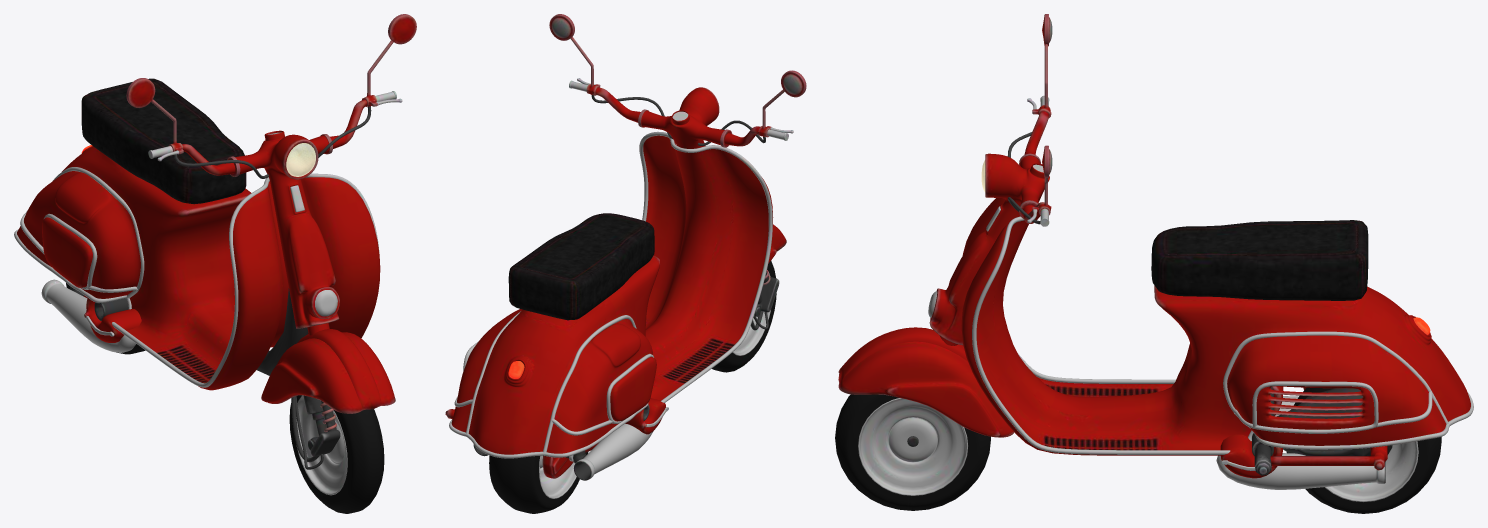
File: scooter.glb
3 renders of one model, left to right at view 1: azimuth 30°, elevation 25°; view 2: azimuth 150°, elevation 25°; view 3: azimuth 270°, elevation 25°, orthographic. The views are drawn at different scales.
Parts seen in each view (by area): view 1: Body, Seat, Stearing.Column, Fender.FR, Tire.FR, Body.Moulding, Rim.FR, Exhaust, Mirror.Housing, Engine.Mount.Bushings, Frame, Handle.Bars (+9 smaller); view 2: Body, Seat, Body.Moulding, Tire.BK, Stearing.Column, Exhaust, Handle.Bars, Tire.FR, Rim.BK, Engine.Mount.Bushings, Mirror, Mirror.Posts (+5 smaller); view 3: Body, Seat, Fender.FR, Rim.FR, Body.Moulding, Stearing.Column, Tire.FR, Exhaust, Tire.BK, Rim.BK, Engine.Housing, Engine.Mount.Bushings (+1 smaller).
Part boxes in pixels (left/top/right/bottom): Body: left=17, top=146, right=380, bottom=390; Seat: left=81, top=78, right=246, bottom=204; Stearing.Column: left=227, top=130, right=339, bottom=335; Fender.FR: left=261, top=329, right=395, bottom=413; Tire.FR: left=289, top=395, right=384, bottom=513; Body.Moulding: left=14, top=167, right=379, bottom=387; Rim.FR: left=296, top=395, right=347, bottom=495; Exhaust: left=41, top=279, right=136, bottom=352; Mirror.Housing: left=126, top=14, right=416, bottom=107; Engine.Mount.Bushings: left=84, top=298, right=141, bottom=342; Frame: left=257, top=288, right=308, bottom=375; Handle.Bars: left=182, top=99, right=367, bottom=175; Body: left=451, top=135, right=773, bottom=454; Seat: left=508, top=213, right=654, bottom=320; Body.Moulding: left=449, top=131, right=772, bottom=458; Tire.BK: left=489, top=452, right=588, bottom=513; Stearing.Column: left=638, top=87, right=732, bottom=148; Exhaust: left=473, top=423, right=653, bottom=480; Handle.Bars: left=595, top=87, right=760, bottom=146; Tire.FR: left=712, top=260, right=776, bottom=372; Rim.BK: left=539, top=455, right=576, bottom=498; Engine.Mount.Bushings: left=625, top=398, right=665, bottom=434; Mirror: left=551, top=18, right=801, bottom=94; Mirror.Posts: left=570, top=37, right=784, bottom=137; Body: left=961, top=198, right=1470, bottom=455; Seat: left=1151, top=220, right=1368, bottom=300; Fender.FR: left=838, top=327, right=1014, bottom=437; Rim.FR: left=858, top=398, right=967, bottom=495; Body.Moulding: left=972, top=216, right=1473, bottom=454; Stearing.Column: left=929, top=153, right=1049, bottom=345; Tire.FR: left=835, top=394, right=990, bottom=510; Exhaust: left=1216, top=396, right=1385, bottom=489; Tire.BK: left=1286, top=387, right=1441, bottom=513; Rim.BK: left=1324, top=441, right=1418, bottom=501; Engine.Housing: left=1277, top=388, right=1392, bottom=455; Engine.Mount.Bushings: left=1220, top=386, right=1283, bottom=478.
Size of the model in its own units: 4.29 by 5.88 by 7.96.
Materials: 2 (2 with a texture image).
